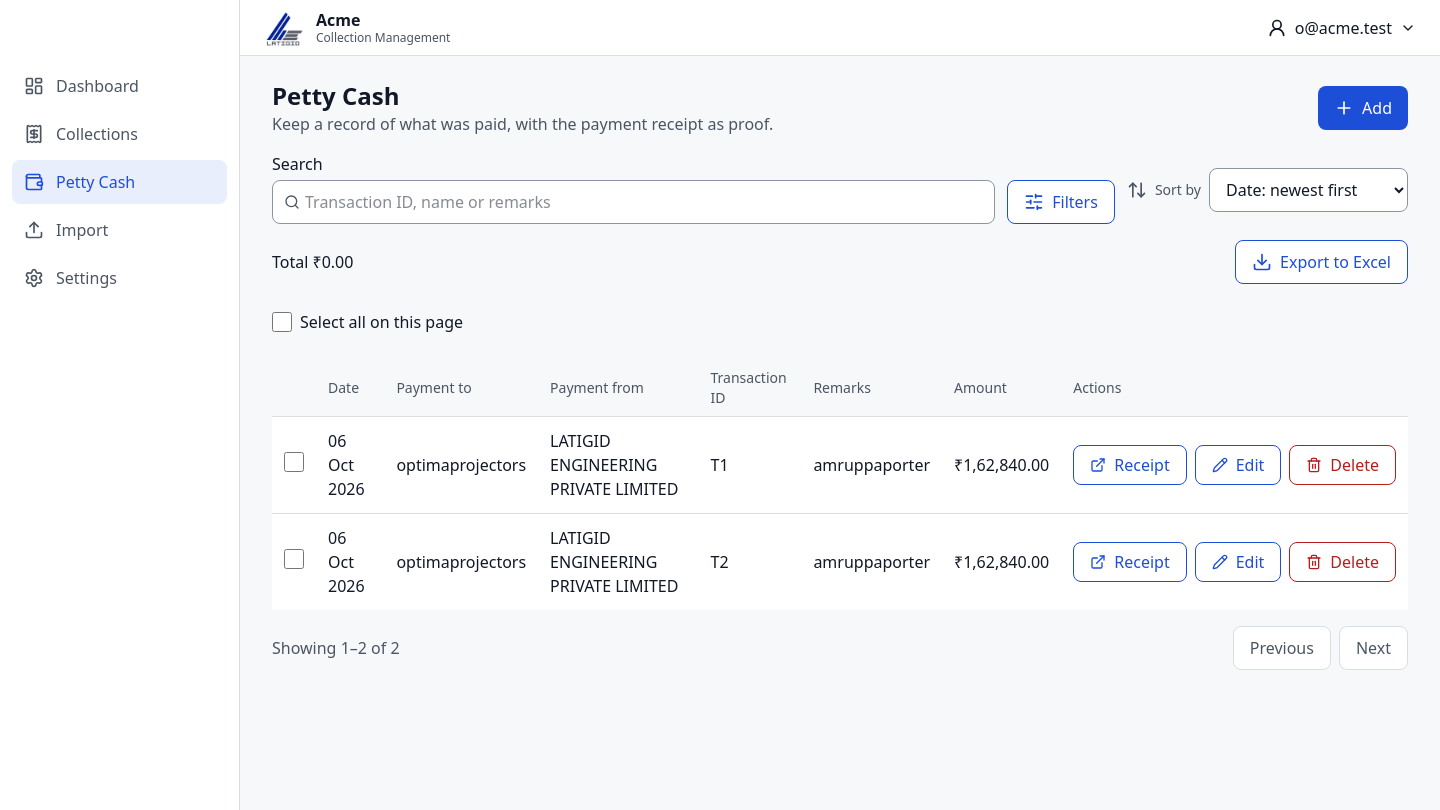
it: Petty Cash › selects every entry on the page at once
Click the checkbox labelled "Select all on this page".
click(282, 322)  # box [272,312,292,332]
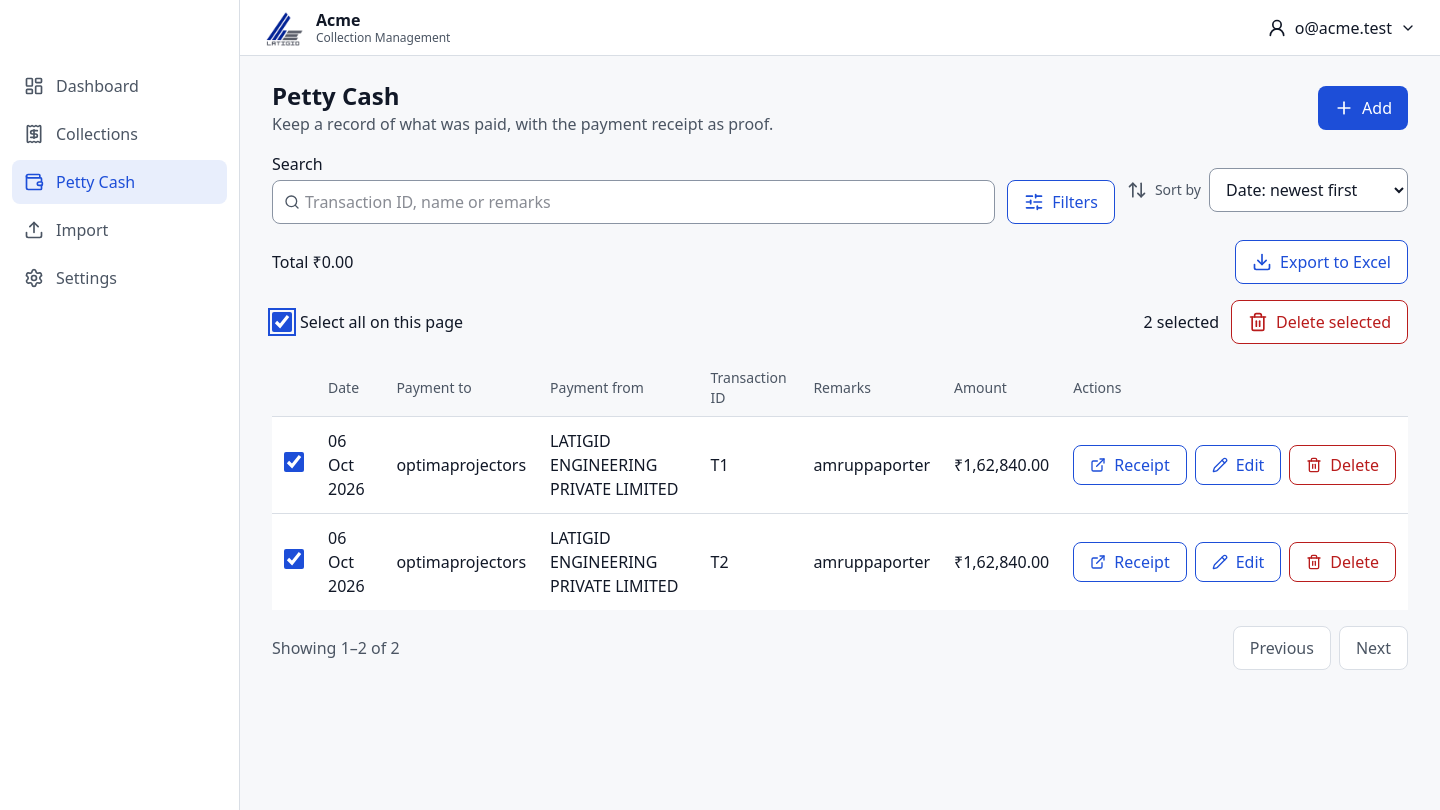
expect the text "2 selected" is shown: met, box [1144,310,1219,334]
Click the checkbox labelled "Select all on this page".
click(282, 322)  # box [272,312,292,332]
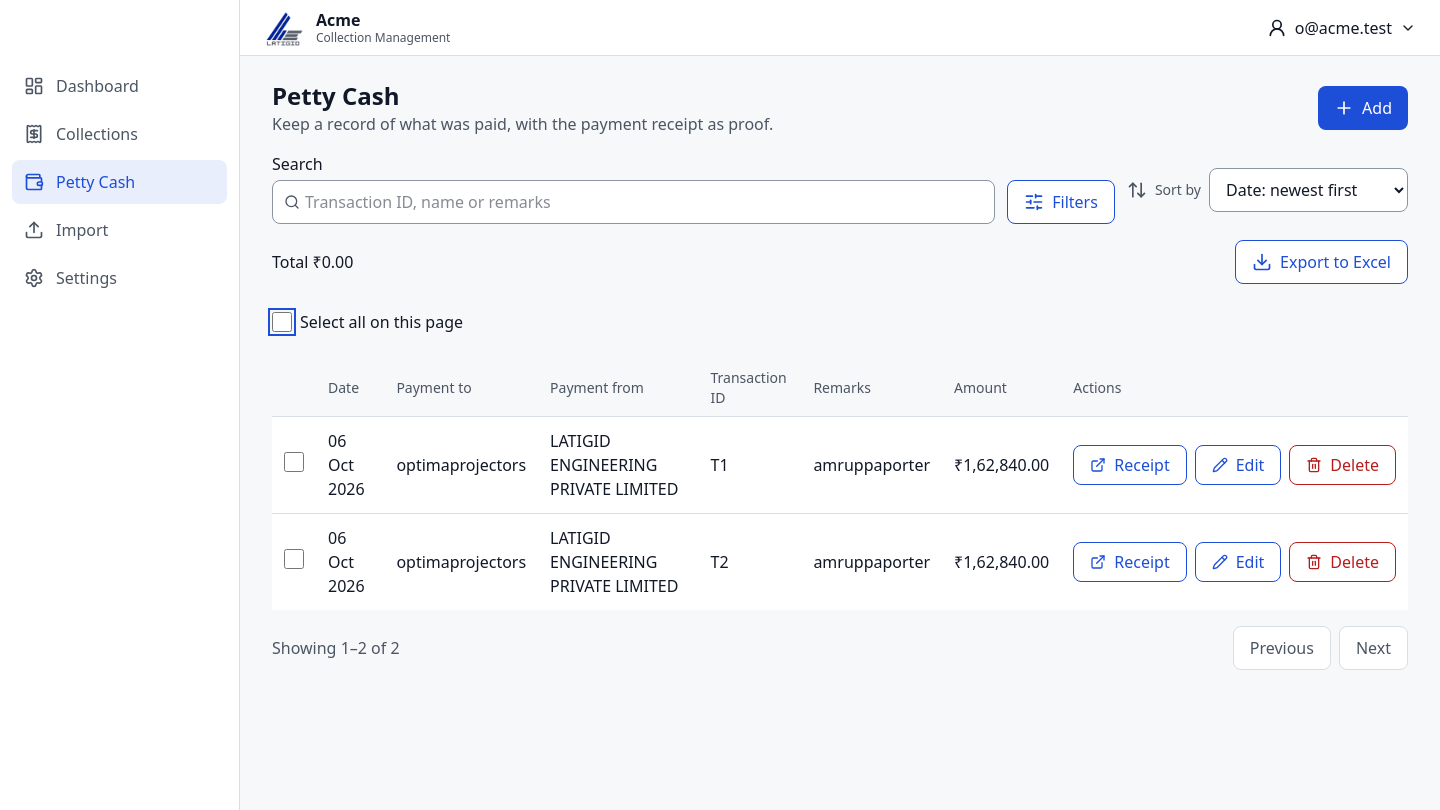
expect the text "2 selected" is gone: met
